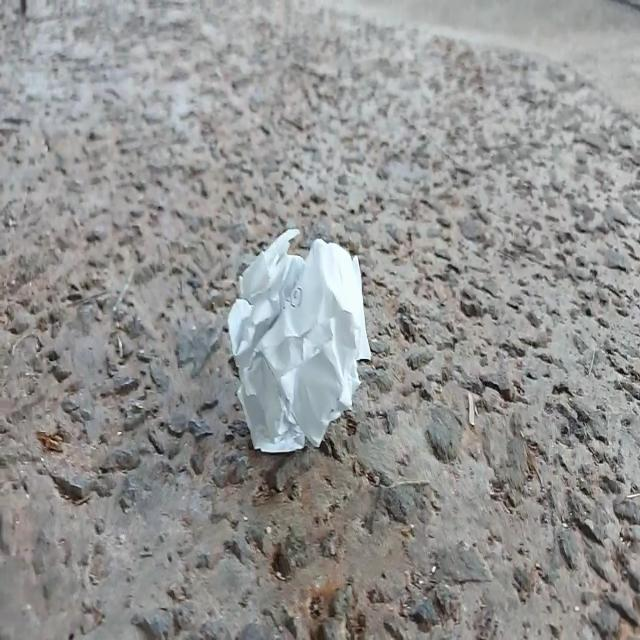paper: (211, 215, 395, 472)
